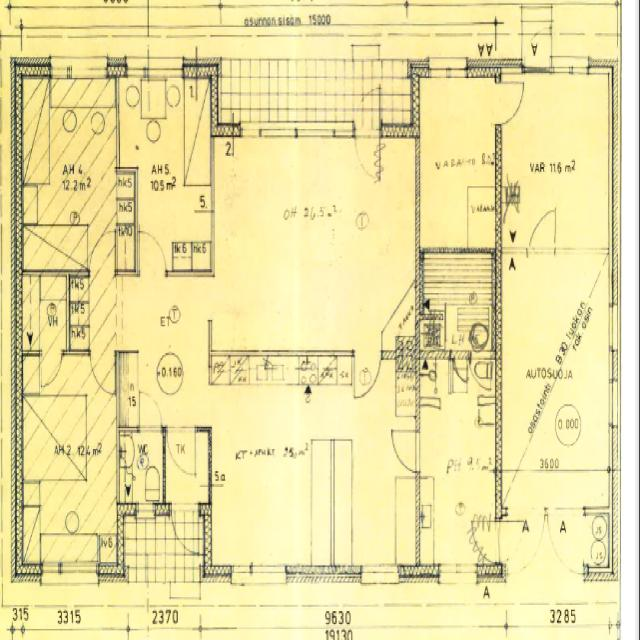door: (545, 508, 584, 578), (507, 508, 545, 578), (171, 503, 199, 560), (525, 17, 551, 74), (355, 82, 380, 136), (495, 520, 527, 562), (167, 426, 195, 474), (495, 83, 527, 124), (389, 429, 420, 471), (355, 352, 381, 401), (529, 205, 554, 252), (139, 230, 165, 275), (90, 231, 115, 275), (90, 350, 114, 393), (139, 392, 161, 430), (41, 350, 62, 388), (450, 352, 468, 388)
